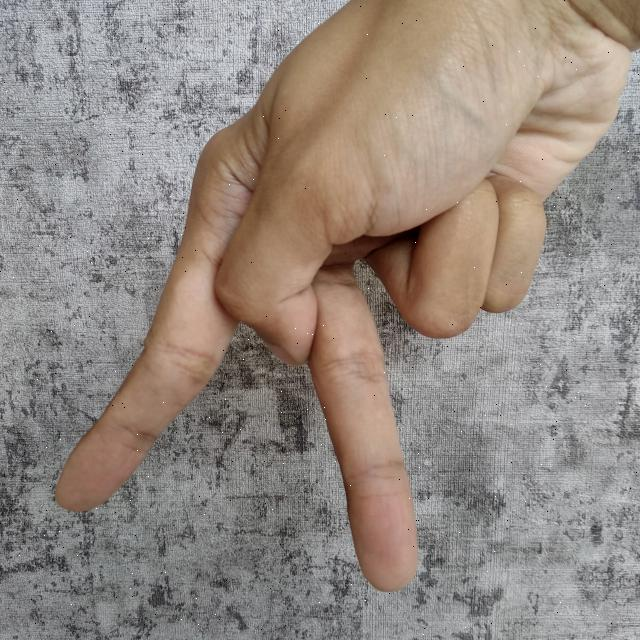P: (43, 0, 640, 610)
